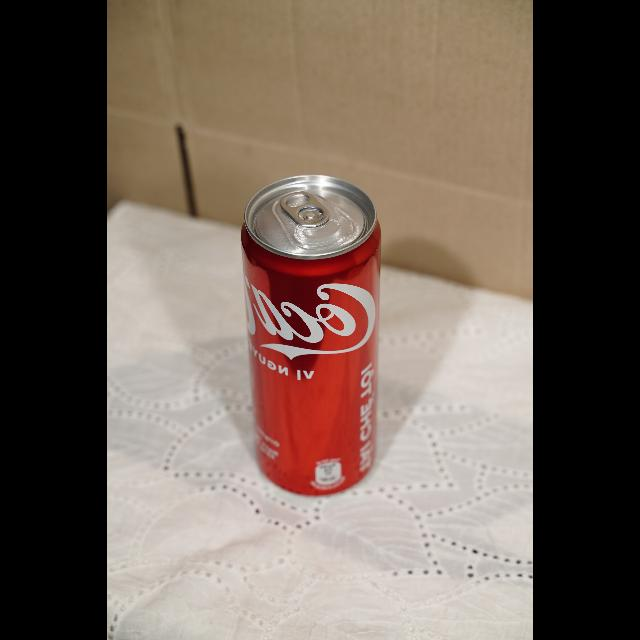coca_cola: (240, 174, 382, 496)
